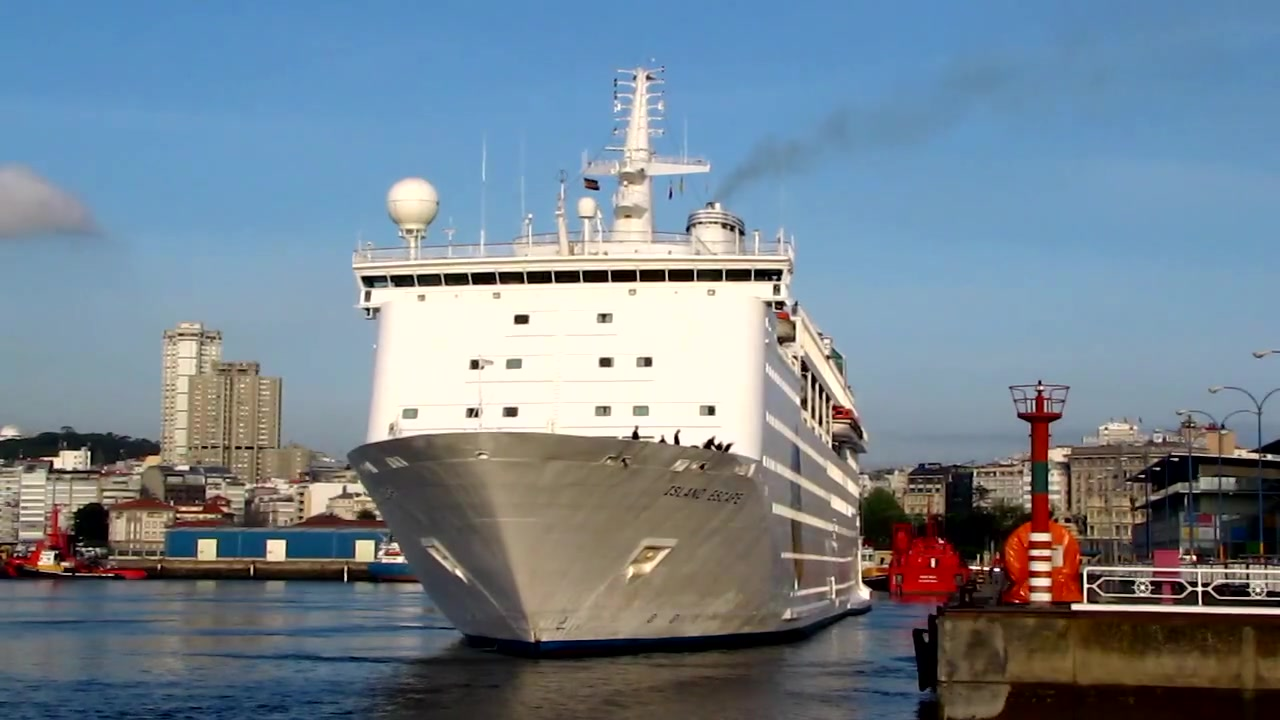boat: (350, 58, 877, 652)
